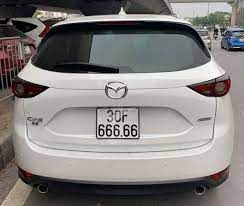Car number plates: (96, 106, 140, 140)
